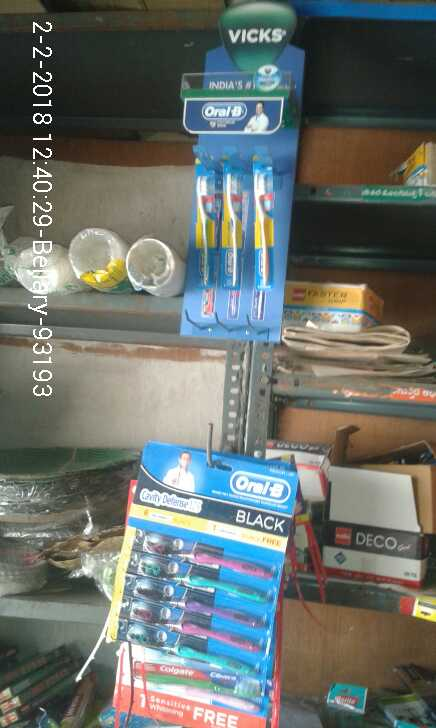oralb: (125, 529, 283, 672), (196, 159, 214, 291), (223, 162, 241, 293), (251, 169, 271, 283)
